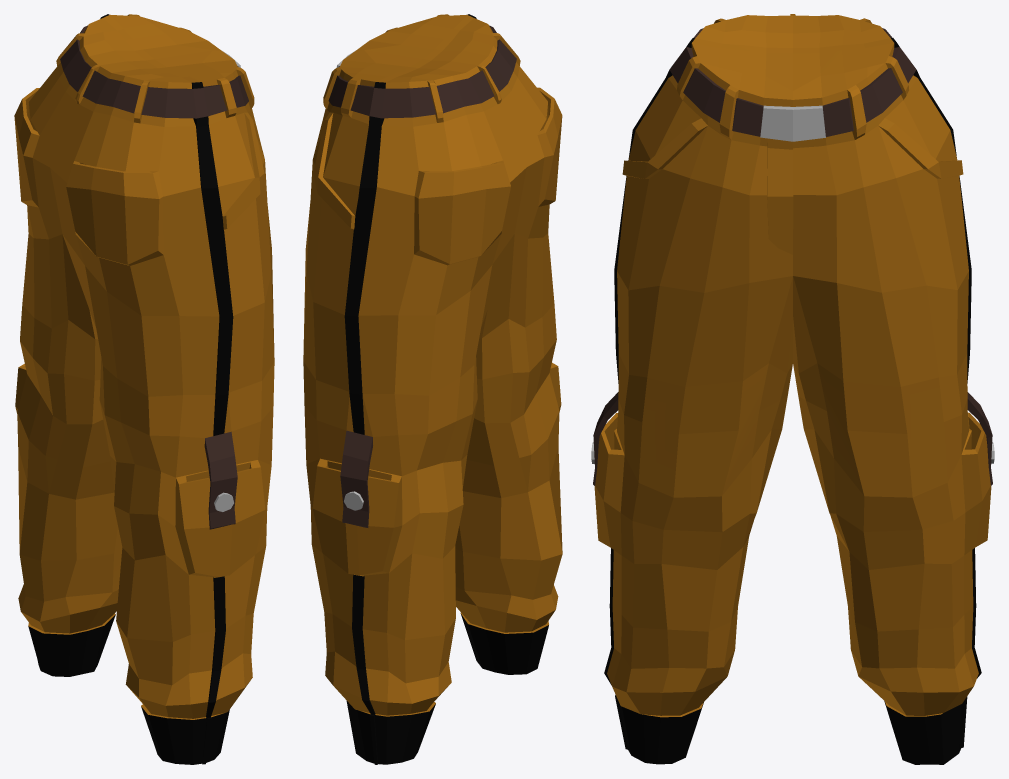
The model's file is Calça.fbx.
The picture shows the model from 3 angles, left to right: view 1: azimuth 30°, elevation 25°; view 2: azimuth 150°, elevation 25°; view 3: azimuth 270°, elevation 25°; orthographic projection. The views are drawn at different scales.
Parts seen in each view (by area): view 1: Calça; view 2: Calça; view 3: Calça.
Boxes of the visible parts, x1=… form: Calça: x1=14, y1=14, x2=274, y2=764; Calça: x1=303, y1=14, x2=562, y2=764; Calça: x1=591, y1=14, x2=994, y2=764.
Bounding box in the file's own units: 157 × 507 × 255.
